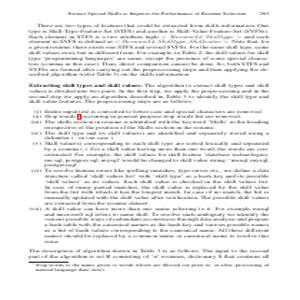text: (25, 11, 273, 275)
